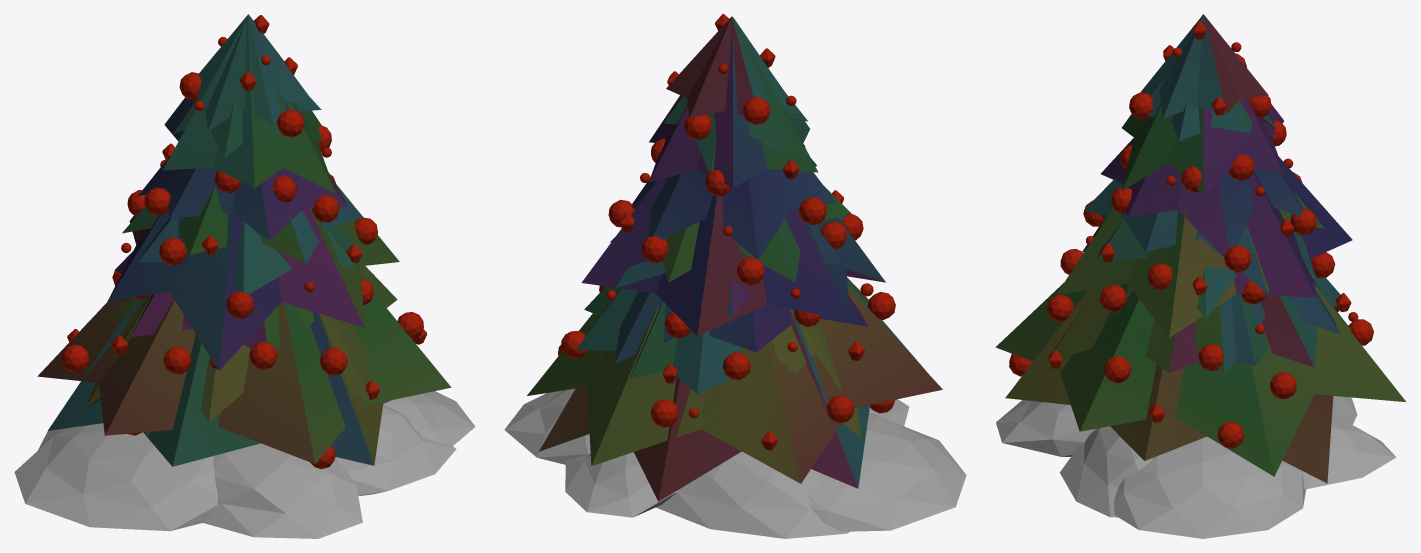
File: uploads_files_3409994_ChristmasTree_2021_v3.fbx
The picture shows the model from 3 angles, left to right: view 1: azimuth 30°, elevation 25°; view 2: azimuth 150°, elevation 25°; view 3: azimuth 270°, elevation 25°; orthographic projection. The views are drawn at different scales.
Visible parts, largest first — view 1: Tree_D, Icosphere, Icosphere.026, Icosphere.018, Icosphere.002, Icosphere.011, Icosphere.041, Icosphere.019, Icosphere.028, Icosphere.025, Icosphere.012; view 2: Tree_D, Icosphere, Icosphere.022, Icosphere.011, Icosphere.012, Icosphere.013, Icosphere.027, Icosphere.029, Icosphere.026, Icosphere.004, Icosphere.023; view 3: Tree_D, Icosphere, Icosphere.015, Icosphere.006, Icosphere.008, Icosphere.007, Icosphere.017, Icosphere.019, Icosphere.024, Icosphere.016, Icosphere.028, Icosphere.014 (+1 smaller).
Part boxes in pixels (x1,y1,x2,y2): Tree_D: (37,14,451,466); Icosphere: (14,391,475,538); Icosphere.026: (163,347,191,374); Icosphere.018: (249,341,277,369); Icosphere.002: (159,237,186,265); Icosphere.011: (61,344,89,372); Icosphere.041: (226,291,254,318); Icosphere.019: (320,347,347,375); Icosphere.028: (276,109,304,137); Icosphere.025: (312,195,339,222); Icosphere.012: (144,187,170,215); Tree_D: (527,16,942,501); Icosphere: (504,389,966,538); Icosphere.022: (650,399,678,427); Icosphere.011: (826,395,854,423); Icosphere.012: (799,196,827,224); Icosphere.013: (736,257,765,285); Icosphere.027: (723,352,750,380); Icosphere.029: (743,96,770,124); Icosphere.026: (867,292,895,319); Icosphere.004: (641,236,668,263); Icosphere.023: (684,115,711,139); Tree_D: (995,14,1406,483); Icosphere: (996,396,1396,538); Icosphere.015: (1224,245,1251,272); Icosphere.006: (1270,372,1296,399); Icosphere.008: (1104,356,1130,382); Icosphere.007: (1100,285,1126,311); Icosphere.017: (1217,421,1244,448); Icosphere.019: (1047,294,1073,321); Icosphere.024: (1198,344,1223,370); Icosphere.016: (1147,263,1172,290); Icosphere.028: (1129,92,1152,119); Icosphere.014: (1228,154,1254,180).
Size of the model in its own units: 515 by 524 by 437.
7 materials, 5 textured.
